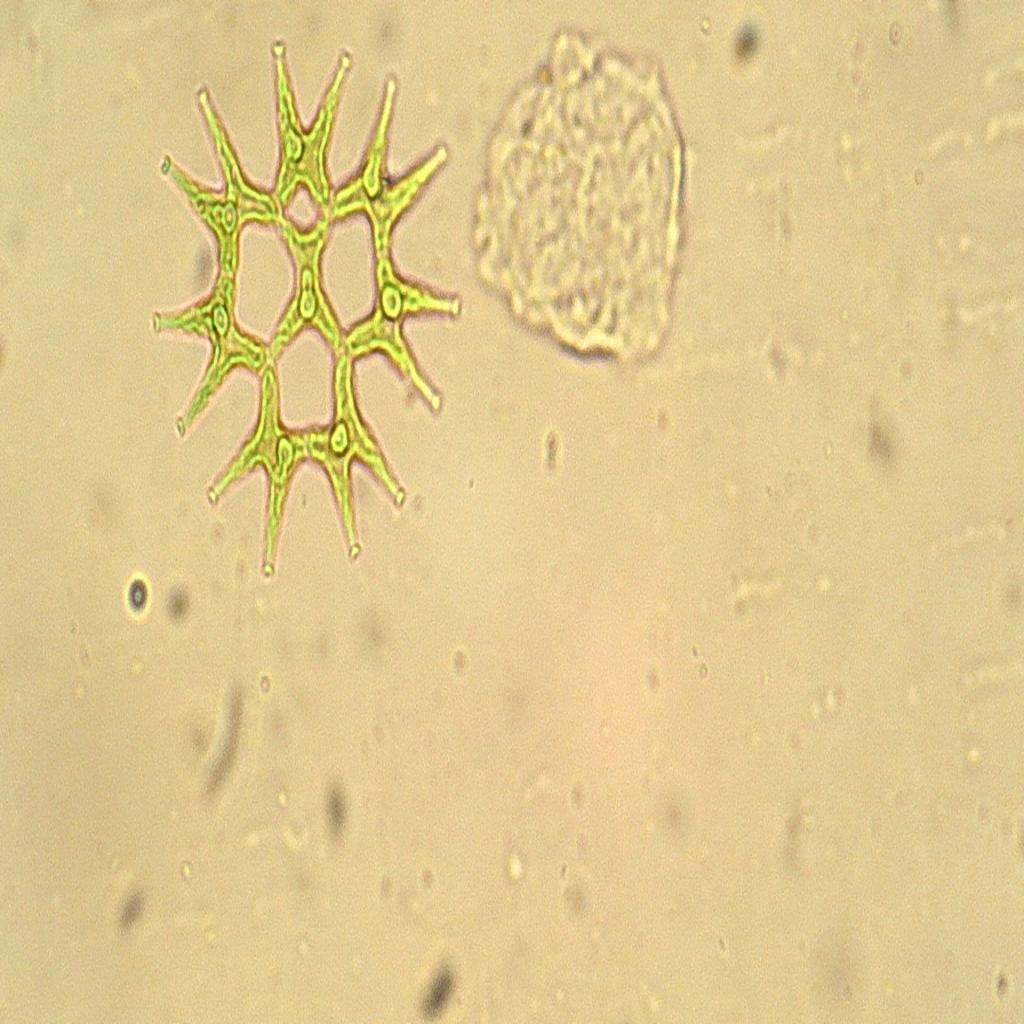Pediastrum_CTH: (139, 20, 472, 594)
